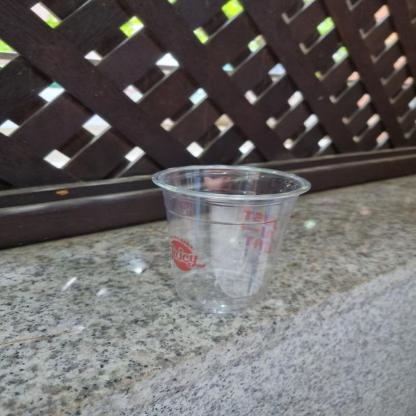Plastic Cup: (148, 162, 310, 316)
